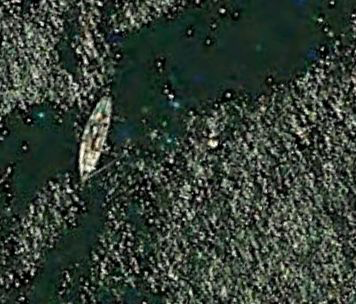boat: (77, 94, 116, 185)
